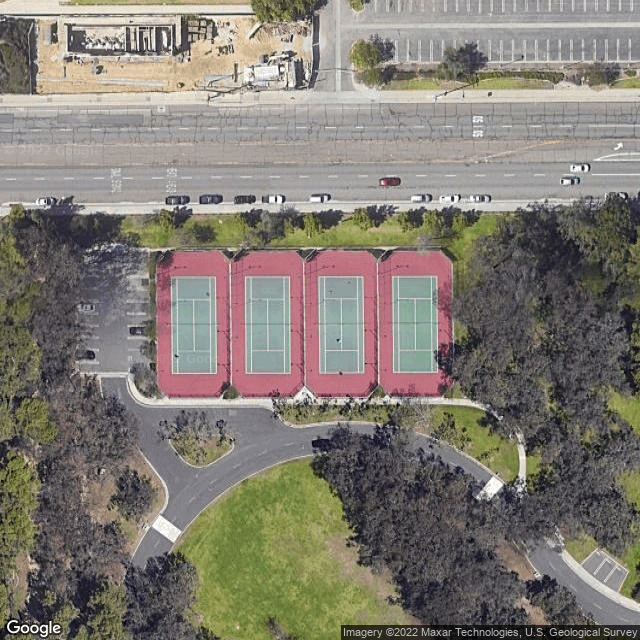Court: (169, 275, 217, 375), (243, 275, 291, 374), (317, 275, 365, 374), (391, 275, 439, 373)
